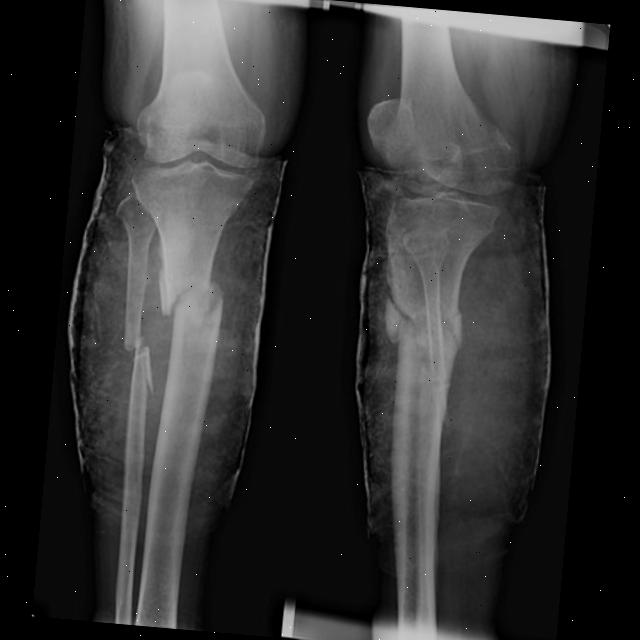Fracture: (378, 288, 465, 352), (159, 274, 227, 327), (118, 332, 157, 401)
